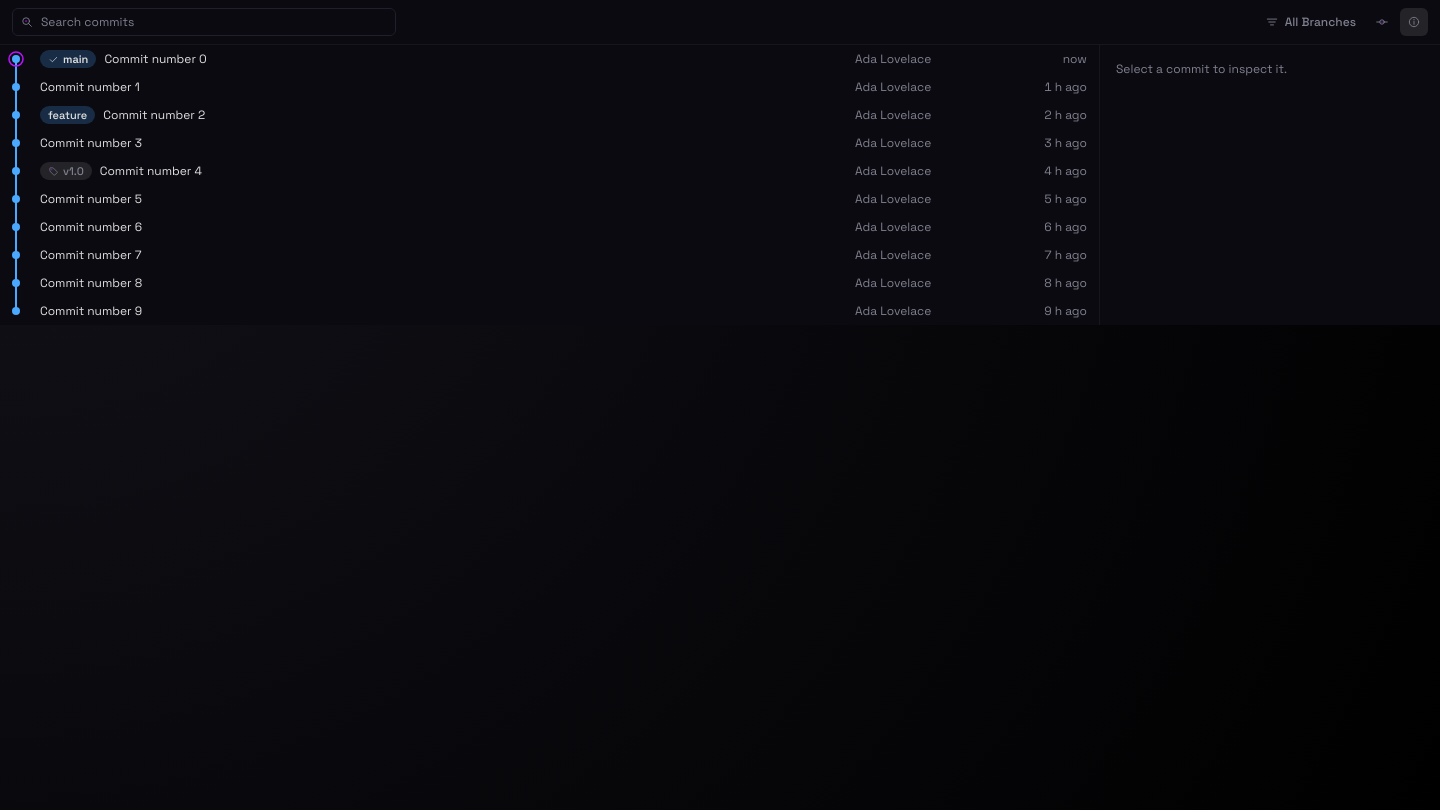
Test: GitGraphView › selection and inspector › hides the inspector from the toolbar and with Return
Click the button named "Inspector" at (1414, 22), box x1=1400 y1=8 x2=1428 y2=36
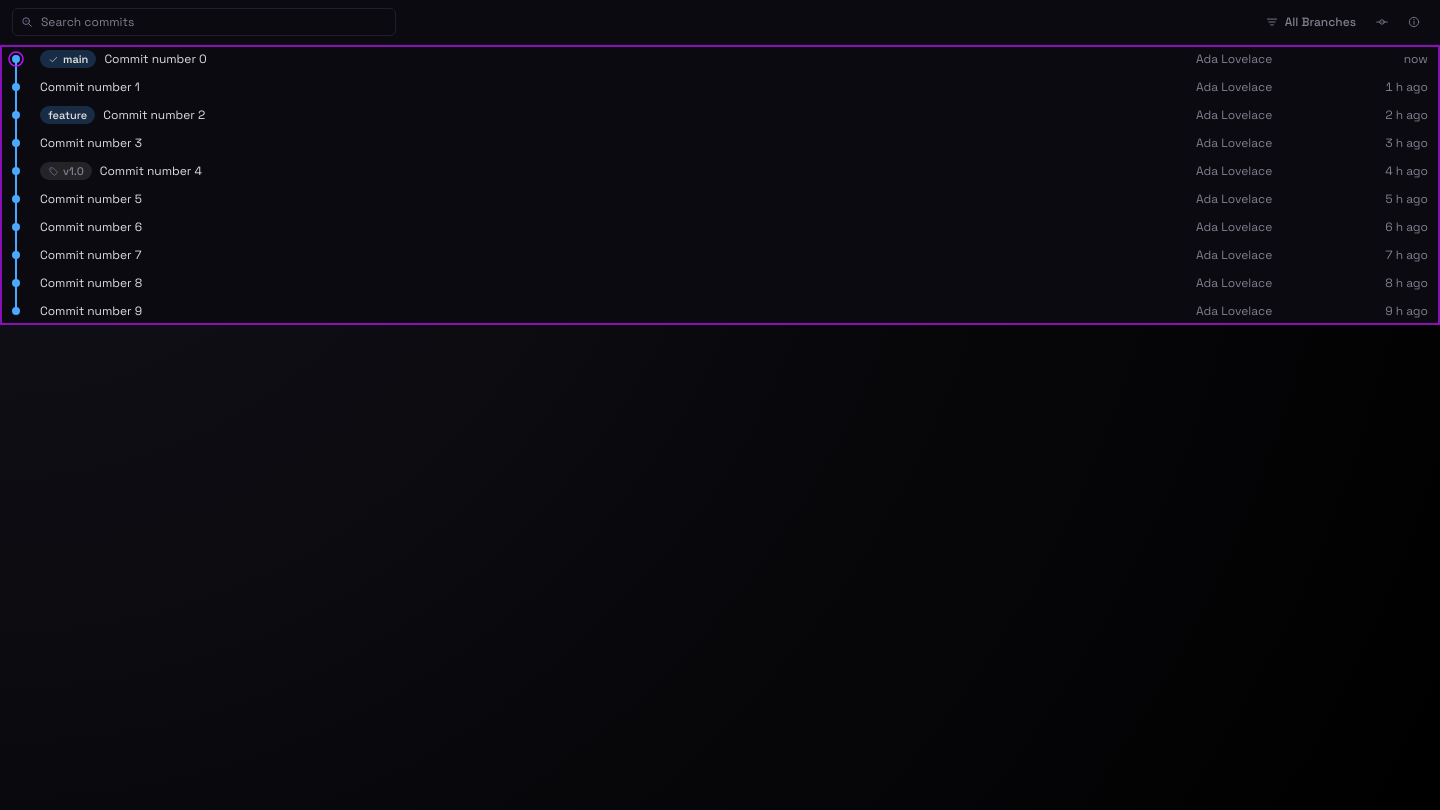
Press Enter
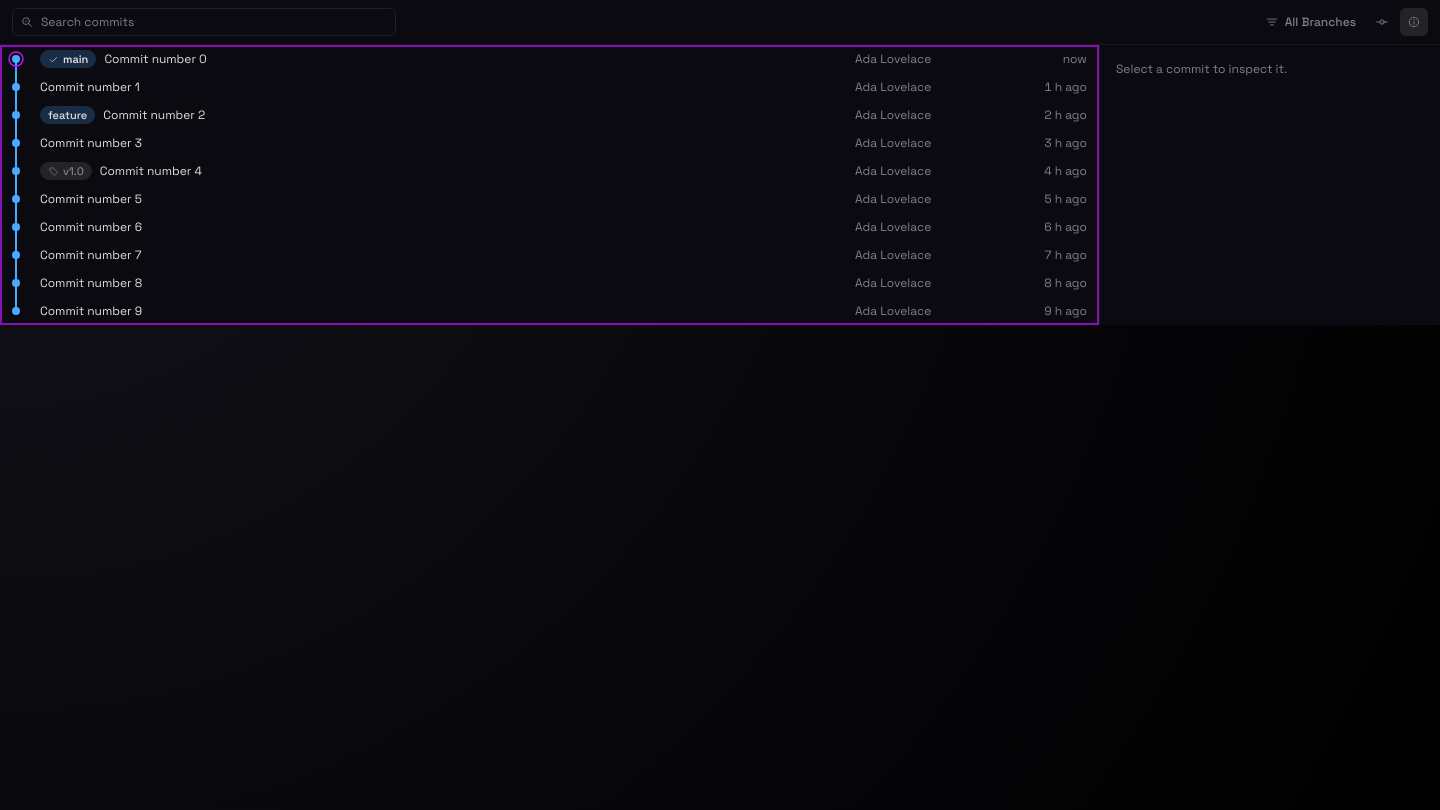
Expected: the element named "Commit inspector" is shown, x1=1100 y1=45 x2=1439 y2=325
